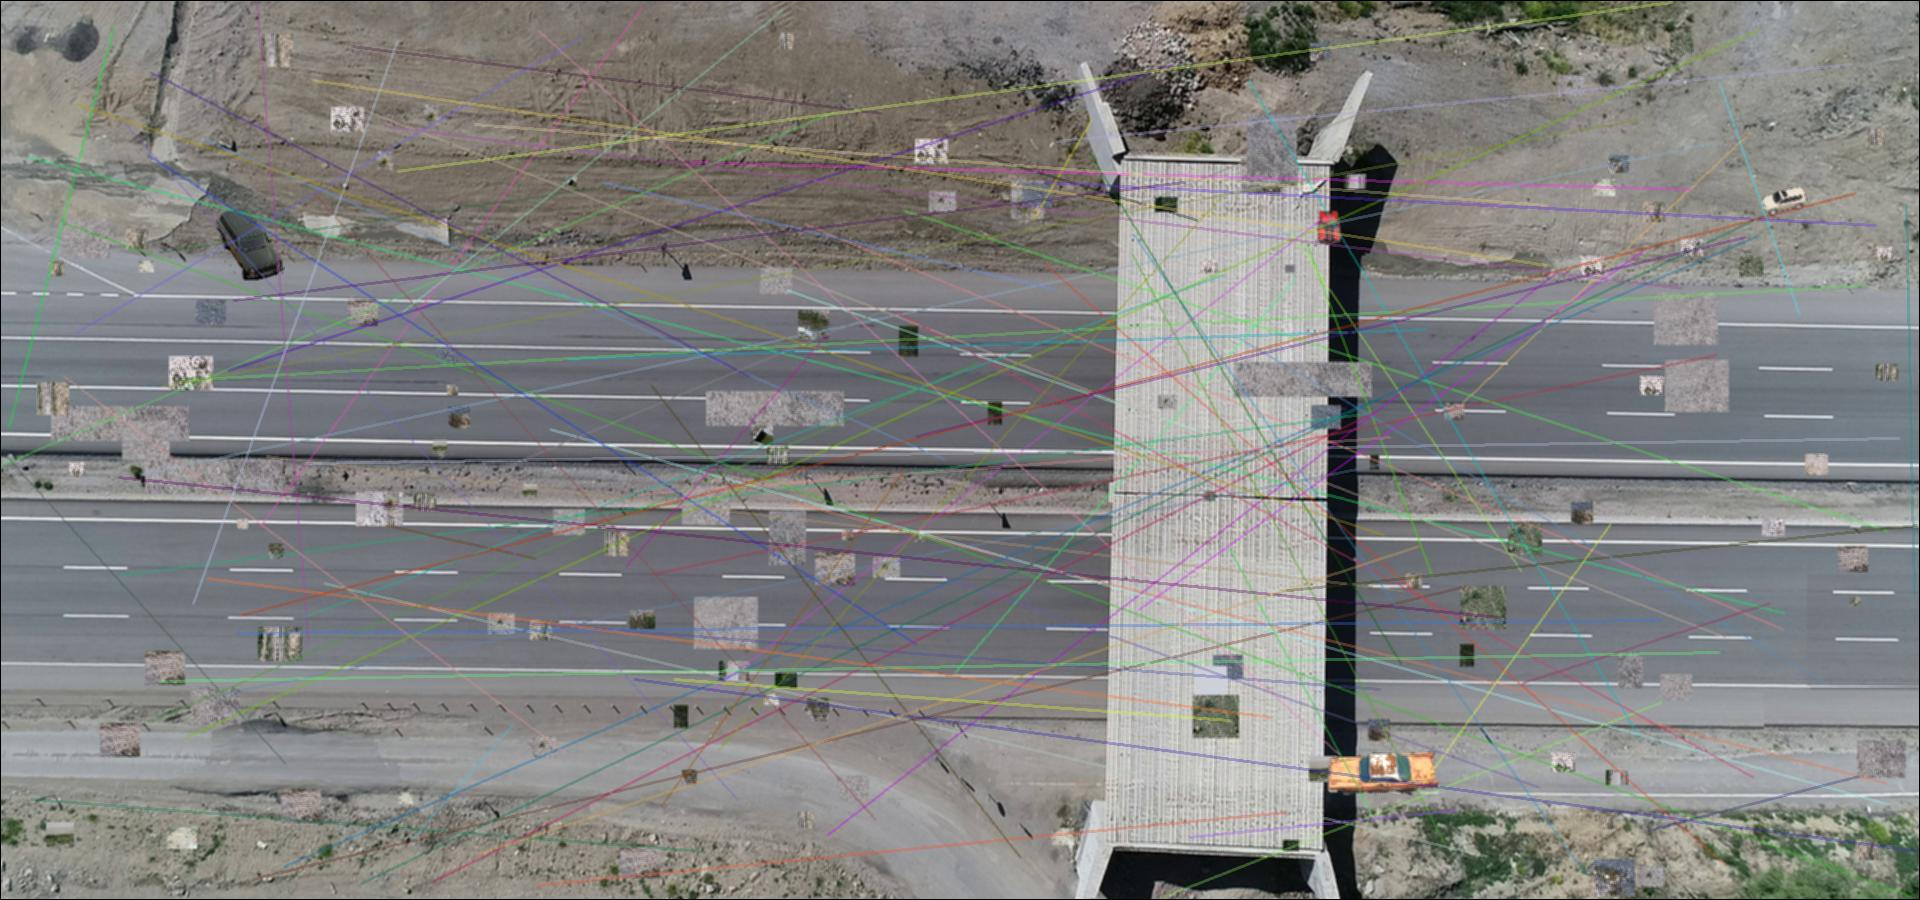arac: (1322, 751, 1453, 795), (214, 208, 285, 280), (1760, 187, 1809, 216), (1316, 211, 1343, 246)
